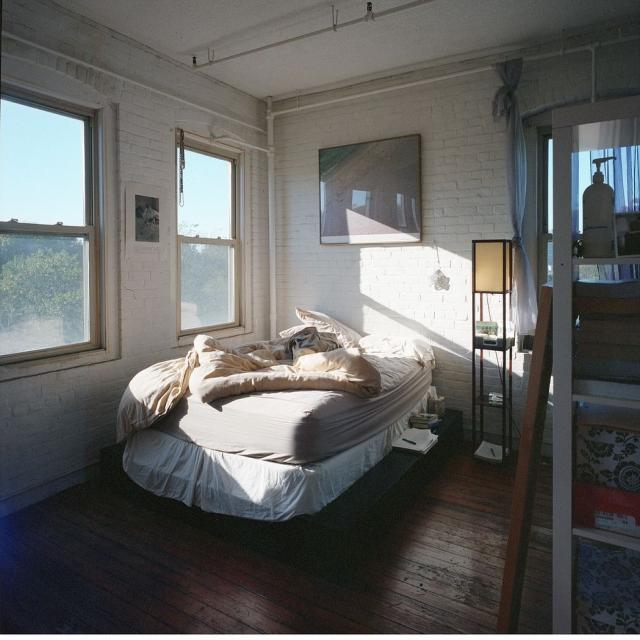bed: (142, 310, 412, 470)
